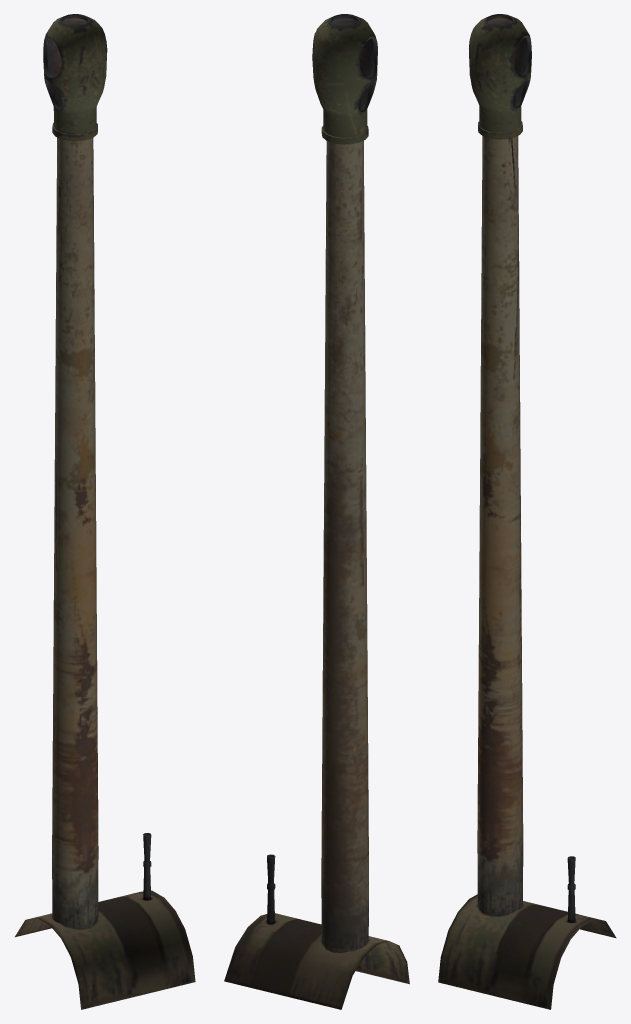
File: Gun_02.glb
3 renders of one model, left to right at view 1: azimuth 30°, elevation 25°; view 2: azimuth 150°, elevation 25°; view 3: azimuth 330°, elevation 25°, orthographic. The views are drawn at different scales.
Visible parts, largest first — view 1: set_0_group_0; view 2: set_0_group_0; view 3: set_0_group_0.
Boxes of the visible parts, bbox=[...] form: set_0_group_0: bbox=[15, 14, 195, 1009]; set_0_group_0: bbox=[224, 14, 409, 1009]; set_0_group_0: bbox=[438, 14, 616, 1009].
Bounding box in the file's own units: 0.4713 × 3.77 × 0.4755.
1 material, 1 textured.
